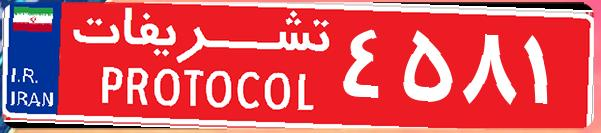1: (520, 20, 580, 115)
4: (340, 20, 400, 115)
5: (400, 20, 460, 115)
8: (460, 20, 520, 115)
تشریفات: (60, 8, 340, 125)
